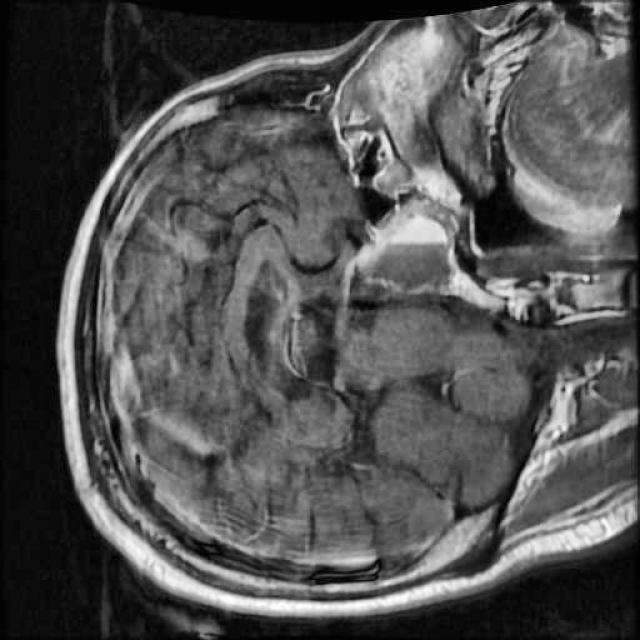Tumor: (351, 204, 466, 299)
